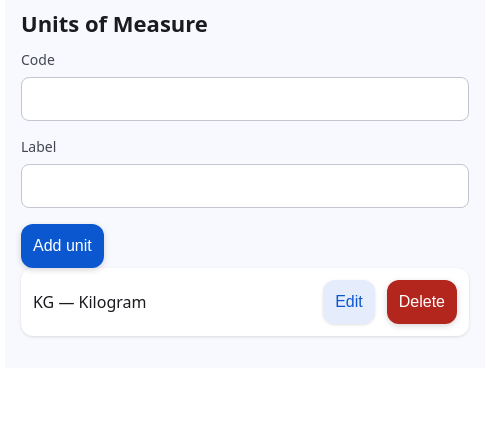
Test: UnitsPage › shows an error and keeps the unit when deleting one that is in use
Expected: the text "KG — Kilogram" is shown, [33, 291, 146, 313]
Click the button "Delete" at point(422, 302), box [387, 280, 457, 324]
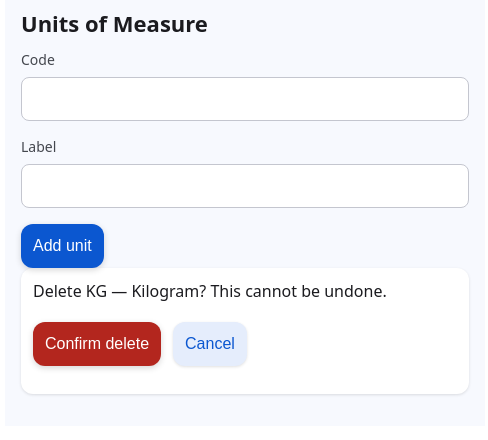
Click the button "Confirm delete" at point(97, 344), box [33, 322, 161, 366]
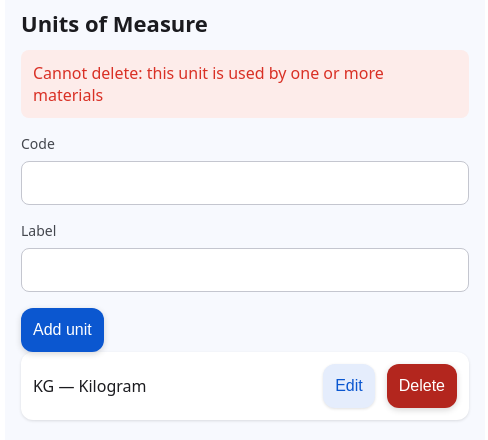
Expected: the text "KG — Kilogram" is shown, [33, 375, 146, 397]
Now the message reads "Cannot delete: this unit is used by one or more materials", box [33, 62, 384, 106]
